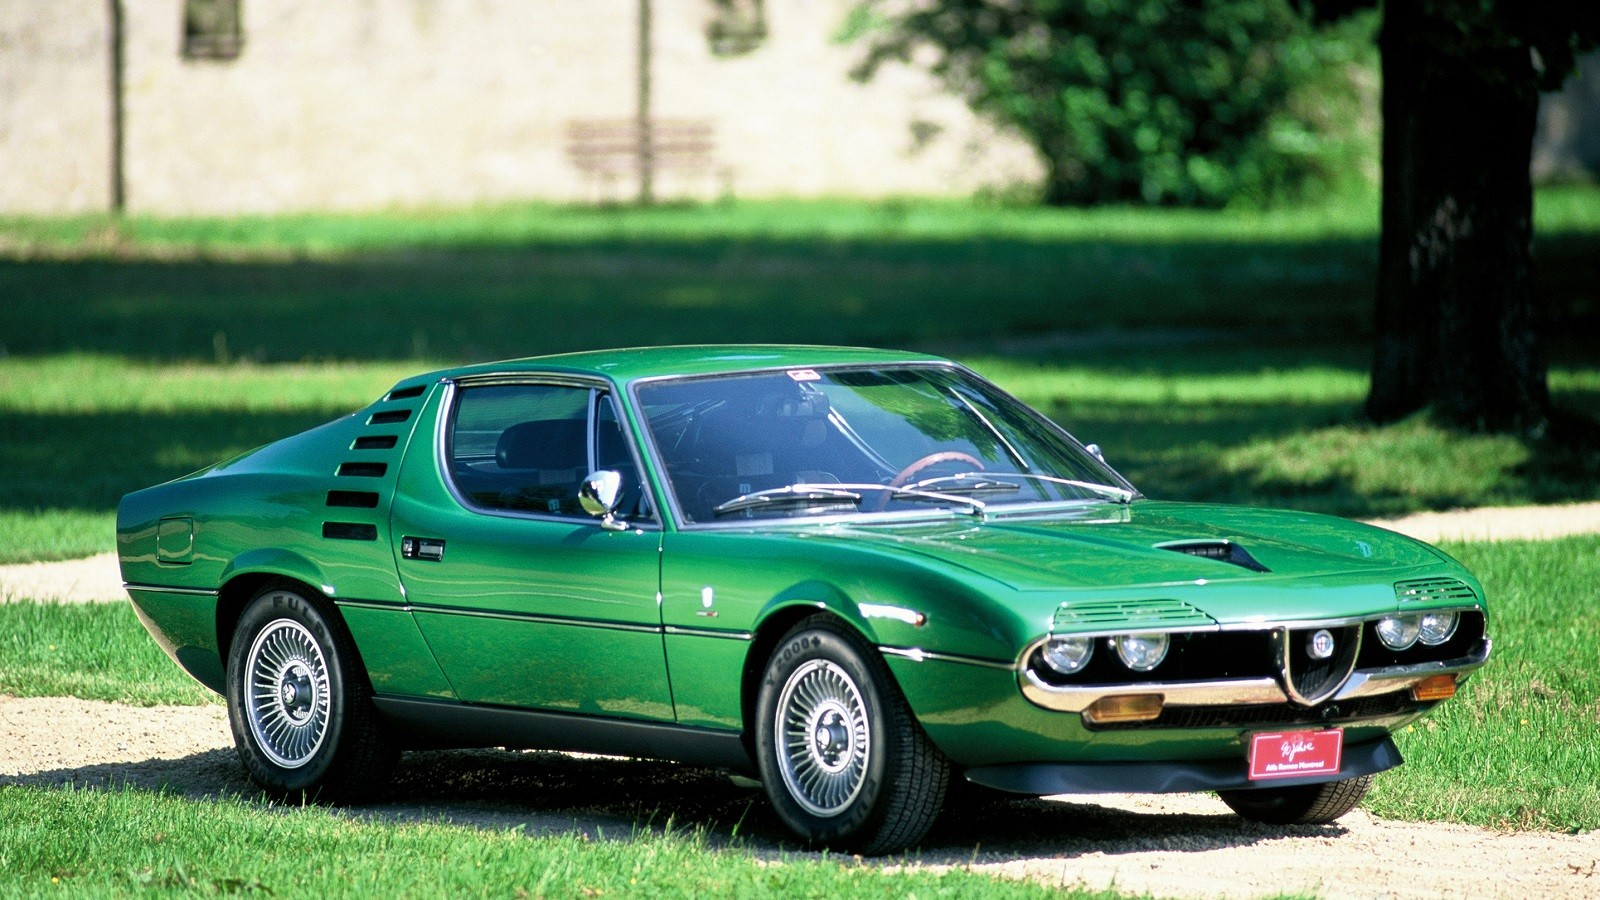headlight: (1036, 627, 1177, 671), (1364, 601, 1481, 652)
wheel: (740, 618, 968, 856), (198, 584, 379, 805), (1219, 795, 1374, 831)
